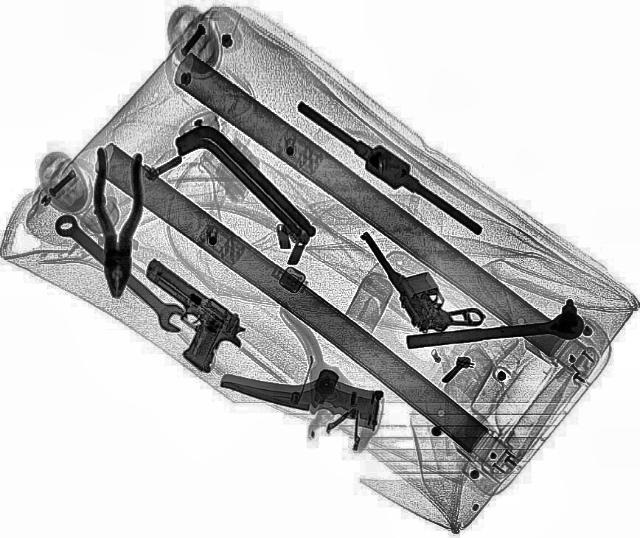Gun: (102, 258, 260, 374), (358, 211, 488, 344)
Pliers: (92, 147, 140, 297)
Wrench: (44, 208, 194, 334)
